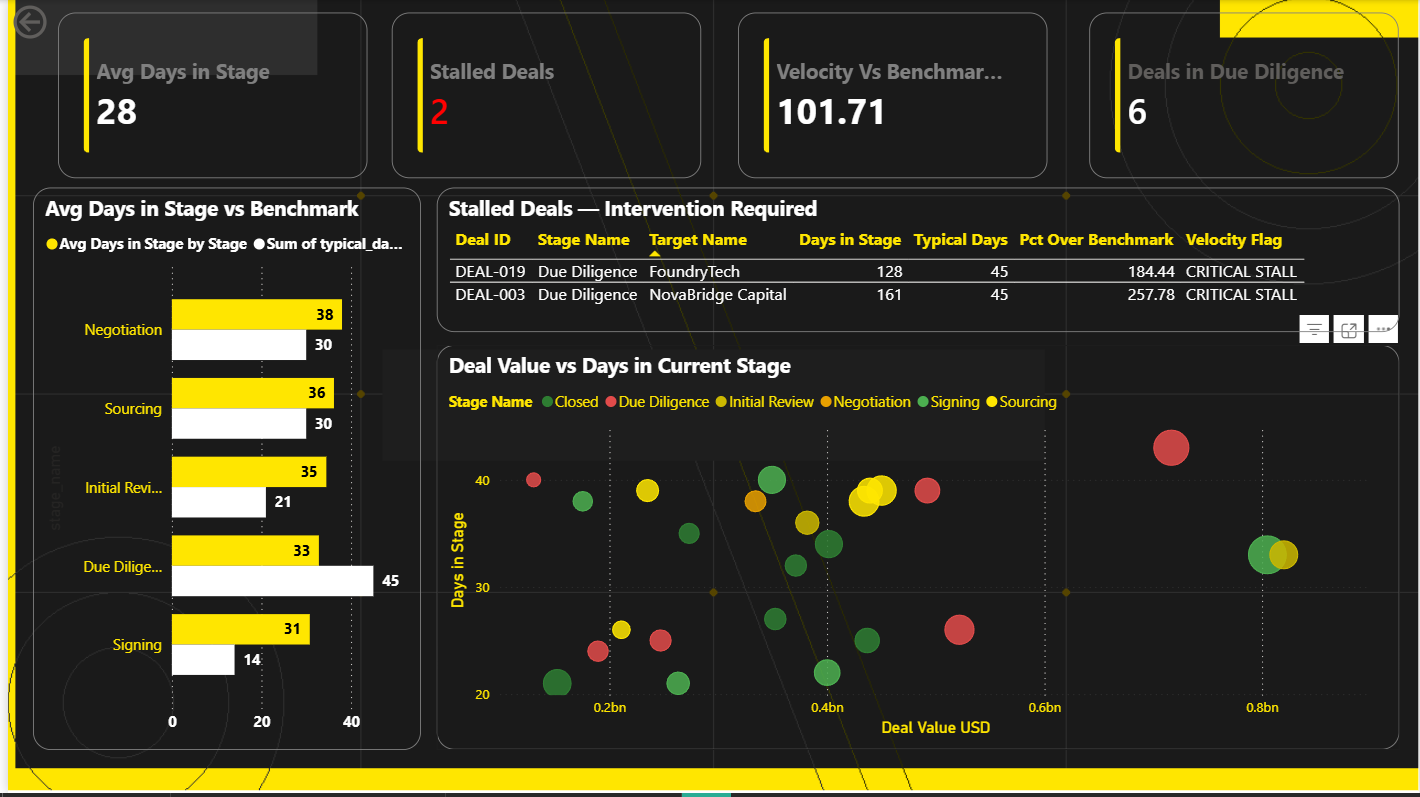

What the dashboard file says about the page in this screenshot:
{"tool":"powerbi","page":{"name":"Deal Intelligence (Stage Velocity)","canvas":[1280,720],"ordinal":1},"visuals":[{"type":"cardVisual","fields":{"Data":["Stage & Velocity Measures.Avg Days in Stage"]},"box":[53.7,29.3,280.5,131.7],"z":0},{"type":"cardVisual","fields":{"Data":["Stage & Velocity Measures.Stalled Deals"]},"box":[370.7,29.3,280.5,150],"z":1},{"type":"cardVisual","fields":{"Data":["Stage & Velocity Measures.Velocity Vs Benchmark %"]},"box":[701.2,29.3,280.5,150],"z":2},{"type":"cardVisual","fields":{"Data":["Stage & Velocity Measures.Deals in Due Diligence"]},"box":[1000,29.3,280.5,150],"z":3},{"type":"clusteredBarChart","fields":{"Y":["Stage & Velocity Measures.Avg Days in Stage","CountNonNull(dim_stage.typical_days)"],"Category":["dim_stage.stage_name"]},"box":[25.6,179.3,345.1,180.5],"z":4},{"type":"scatterChart","fields":{"X":["Sum(dim_deal.deal_value_usd_)"],"Y":["Sum(fact_deal_activity.days_in_stage)"],"Series":["dim_stage.stage_name"],"Size":["Sum(dim_deal.advisory_fee_usd)"]},"box":[409.8,204.9,786.6,154.9],"z":5},{"type":"tableEx","fields":{"Values":["fact_deal_activity.deal_id","dim_deal.target_name","dim_stage.stage_name","Sum(fact_deal_activity.days_in_stage)","dim_stage.typical_days","Sum(fact_deal_activity.Pct Over Benchmark)","fact_deal_activity.Recommended Action"]},"box":[45.1,389,936.6,290.2],"z":6},{"type":"actionButton","box":[0,0,100,40],"z":7}]}

Visuals, with their boxes in screenshot pixels (x1, y1, x2, y2), scaled from the page's 1280x720 canvas onto the 1420x797 screenshot:
cardVisual - Stage & Velocity Measures.Avg Days in Stage: detection(60, 32, 371, 178)
cardVisual - Stage & Velocity Measures.Stalled Deals: detection(411, 32, 722, 198)
cardVisual - Stage & Velocity Measures.Velocity Vs Benchmark %: detection(778, 32, 1089, 198)
cardVisual - Stage & Velocity Measures.Deals in Due Diligence: detection(1109, 32, 1419, 198)
clusteredBarChart - Stage & Velocity Measures.Avg Days in Stage x CountNonNull(dim_stage.typical_days): detection(28, 198, 411, 398)
scatterChart - Sum(dim_deal.deal_value_usd_) x Sum(fact_deal_activity.days_in_stage): detection(455, 227, 1327, 398)
tableEx - fact_deal_activity.deal_id x dim_deal.target_name: detection(50, 431, 1089, 752)
actionButton: detection(0, 0, 111, 44)
